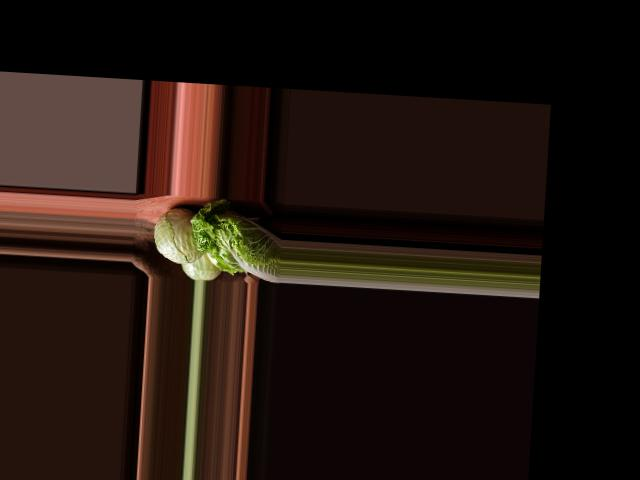lettuce: (187, 195, 283, 280)
